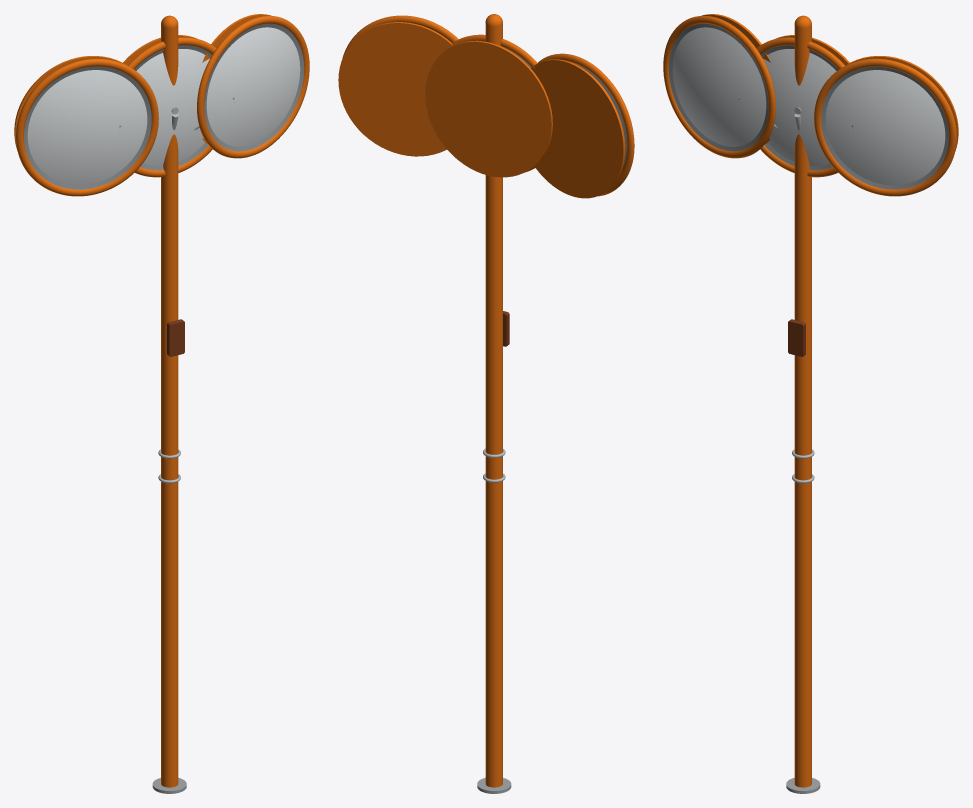
3 renders of one model, left to right at view 1: azimuth 30°, elevation 25°; view 2: azimuth 150°, elevation 25°; view 3: azimuth 330°, elevation 25°, orthographic.
Parts seen in each view (by area): view 1: opt_mirrors_2, jp-facility-curve-mirror, opt_mirrors_1; view 2: opt_mirrors_2, opt_mirrors_1, jp-facility-curve-mirror; view 3: opt_mirrors_2, jp-facility-curve-mirror, opt_mirrors_1.
Boxes of the visible parts, left/top/right/bottom form: opt_mirrors_2: left=14, top=14, right=309, bottom=196; jp-facility-curve-mirror: left=152, top=15, right=186, bottom=793; opt_mirrors_1: left=123, top=35, right=216, bottom=177; opt_mirrors_2: left=338, top=15, right=634, bottom=198; opt_mirrors_1: left=425, top=34, right=552, bottom=177; jp-facility-curve-mirror: left=477, top=14, right=511, bottom=793; opt_mirrors_2: left=663, top=14, right=958, bottom=196; jp-facility-curve-mirror: left=786, top=15, right=820, bottom=793; opt_mirrors_1: left=756, top=35, right=849, bottom=177.
Bounding box in the file's own units: 1.49 × 3.74 × 0.2018.
